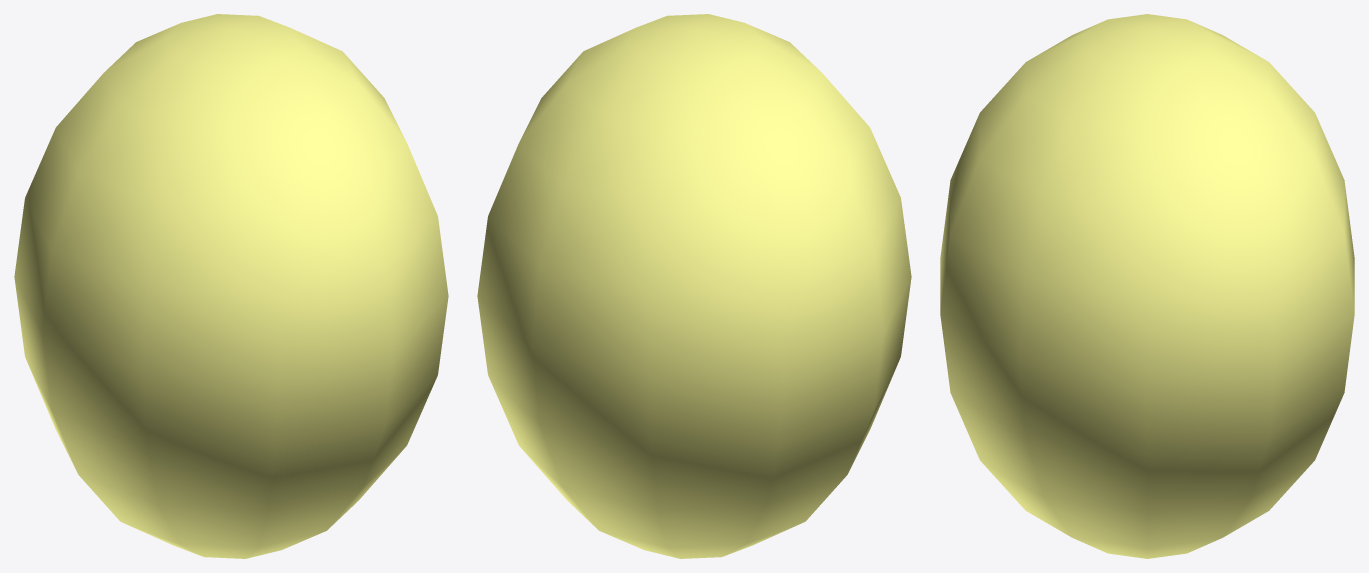
File: lunarru_stage2.obj
3 views of the same model, side by side, from view 1: azimuth 30°, elevation 25°; view 2: azimuth 150°, elevation 25°; view 3: azimuth 270°, elevation 25° (orthographic).
Bounding box in the file's own units: 2 × 2.6 × 1.9.
